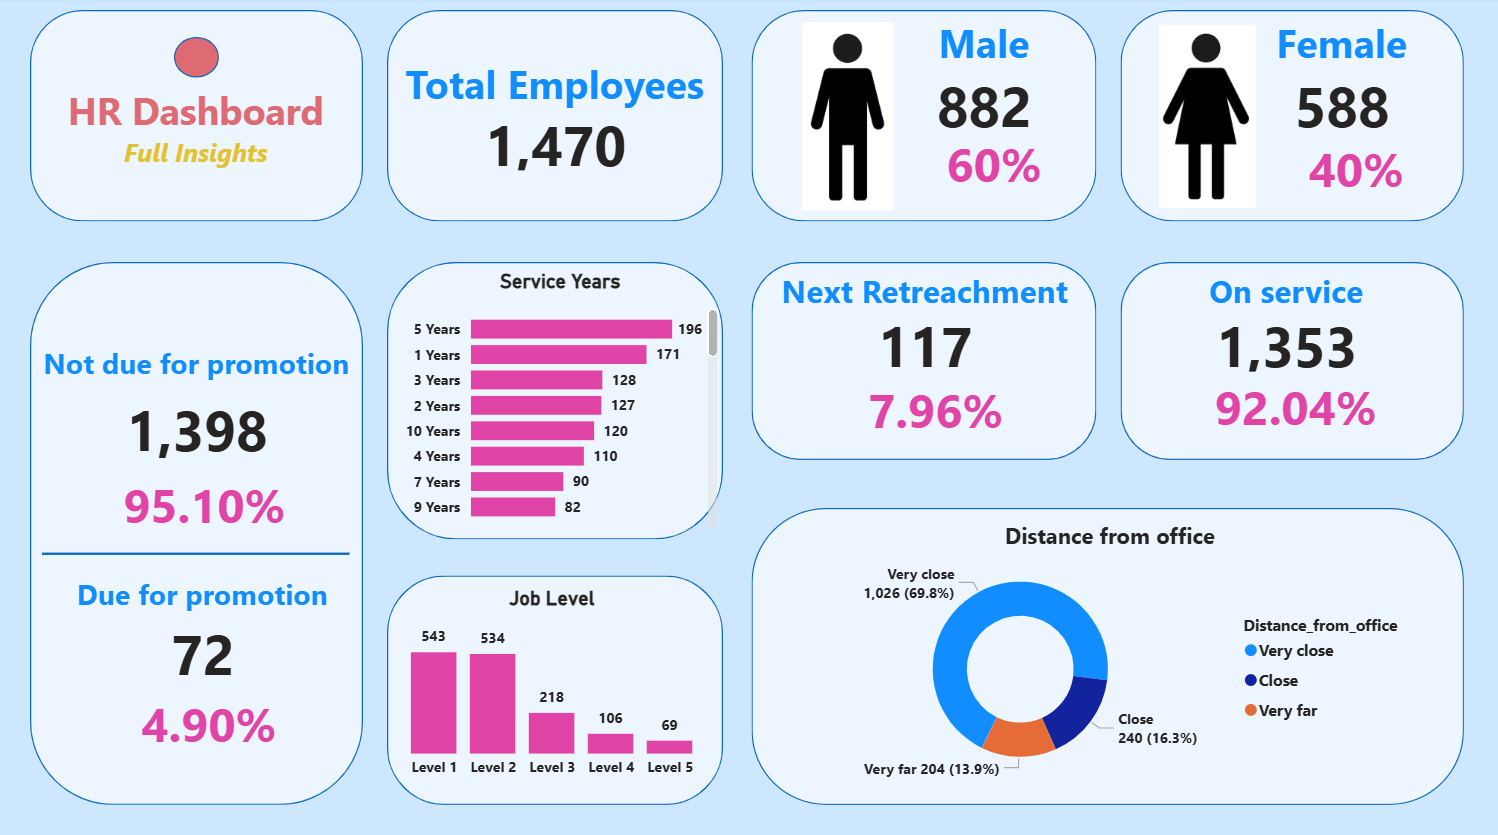

The dashboard page shown, as its layout file describes it:
{"tool":"powerbi","page":{"name":"Page 1","canvas":[1280,720],"ordinal":0},"visuals":[{"type":"shape","box":[28,12.7,282.7,179.5],"z":0},{"type":"shape","box":[331,12.7,285.2,179.5],"z":1000},{"type":"shape","box":[640.4,12.7,292.8,179.5],"z":2000},{"type":"shape","box":[953.6,12.7,291.6,179.5],"z":3000},{"type":"shape","box":[28,226.6,282.7,460.9],"z":4000},{"type":"shape","box":[331,226.6,285.2,235.5],"z":5000},{"type":"shape","box":[640.4,226.6,292.8,168.1],"z":6000},{"type":"shape","box":[953.6,226.6,291.6,168.1],"z":7000},{"type":"shape","box":[331,492.7,285.2,194.8],"z":8000},{"type":"shape","box":[640.4,435.4,604.8,252.1],"z":9000},{"type":"shape","box":[38.2,324.7,261,299.2],"z":10000},{"type":"textbox","box":[34.4,70,268.6,91.7],"z":11000},{"type":"shape","box":[150.2,35.7,38.2,34.4],"z":12000},{"type":"card","title":"Total Employees","fields":{"Values":["All Measures.total_emp"]},"box":[339.9,52.2,267.4,101.9],"z":13000},{"type":"card","title":"Male","fields":{"Values":["All Measures.Males"]},"box":[755,17.8,165.5,104.4],"z":14000},{"type":"card","fields":{"Values":["All Measures.Male%"]},"box":[795.8,103.1,100.6,78.9],"z":15000},{"type":"card","title":"Female","fields":{"Values":["All Measures.Females"]},"box":[1067,17.8,149,104.4],"z":16000},{"type":"card","fields":{"Values":["All Measures.Female%"]},"box":[1100.1,100.6,107,91.7],"z":17000},{"type":"card","title":"Due for promotion","fields":{"Values":["All Measures.Due for promotion"]},"box":[17.8,491.5,313.2,99.3],"z":18000},{"type":"card","title":"Not due for promotion","fields":{"Values":["All Measures.Not due"]},"box":[12.7,295.4,313.2,112],"z":19000},{"type":"card","fields":{"Values":["All Measures.Due for promotion%"]},"box":[108.2,590.8,142.6,53.5],"z":20000},{"type":"card","fields":{"Values":["All Measures.Not due%"]},"box":[100.6,401.1,150.2,61.1],"z":21000},{"type":"card","title":"Next Retreachment","fields":{"Values":["All Measures.Will be retreached"]},"box":[627.7,233,319.6,91.7],"z":22000},{"type":"card","title":"On service","fields":{"Values":["All Measures.On service"]},"box":[981.6,233,225.4,91.7],"z":23000},{"type":"card","fields":{"Values":["All Measures.Will be retreached%"]},"box":[733.4,320.9,126,61.1],"z":24000},{"type":"card","fields":{"Values":["All Measures.On service%"]},"box":[1027.5,315.8,149,66.2],"z":25000},{"type":"donutChart","title":"Distance from office","fields":{"Category":["HR Analytics Data.Distance_from_office"],"Y":["All Measures.total_emp"]},"box":[673.5,445.6,542.4,227.9],"z":26000},{"type":"barChart","title":"Service Years","fields":{"Category":["HR Analytics Data.Service_Years"],"Y":["All Measures.total_emp"]},"box":[339.9,233,276.3,224.1],"z":27000},{"type":"columnChart","title":"Job Level","fields":{"Category":["HR Analytics Data.Job_Level"],"Y":["All Measures.total_emp"]},"box":[325.9,501.6,290.3,171.9],"z":28000},{"type":"image","box":[953.3,25,148.3,155],"z":29000},{"type":"image","box":[656.7,23.3,130,160],"z":30000}]}

Visuals, with their boxes in screenshot pixels (x1, y1, x2, y2), scaled from the page's 1280x720 canvas onto the 1498x835 screenshot:
shape: [33,15,364,223]
shape: [387,15,721,223]
shape: [749,15,1092,223]
shape: [1116,15,1457,223]
shape: [33,263,364,797]
shape: [387,263,721,536]
shape: [749,263,1092,458]
shape: [1116,263,1457,458]
shape: [387,571,721,797]
shape: [749,505,1457,797]
shape: [45,377,350,724]
textbox: [40,81,355,188]
shape: [176,41,220,81]
"Total Employees" card: [398,61,711,179]
"Male" card: [884,21,1077,142]
card - All Measures.Male%: [931,120,1049,211]
"Female" card: [1249,21,1423,142]
card - All Measures.Female%: [1287,117,1413,223]
"Due for promotion" card: [21,570,387,685]
"Not due for promotion" card: [15,343,381,472]
card - All Measures.Due for promotion%: [127,685,294,747]
card - All Measures.Not due%: [118,465,294,536]
"Next Retreachment" card: [735,270,1109,377]
"On service" card: [1149,270,1413,377]
card - All Measures.Will be retreached%: [858,372,1006,443]
card - All Measures.On service%: [1202,366,1377,443]
"Distance from office" donutChart: [788,517,1423,781]
"Service Years" barChart: [398,270,721,530]
"Job Level" columnChart: [381,582,721,781]
image: [1116,29,1289,209]
image: [769,27,921,213]
